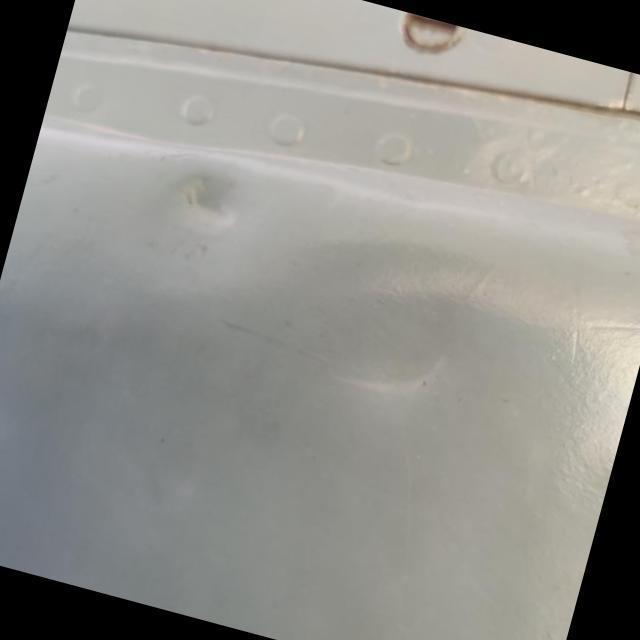dent: (332, 331, 444, 401), (162, 167, 256, 246)
